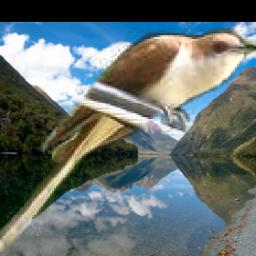Cuckoo: (0, 29, 256, 256)
